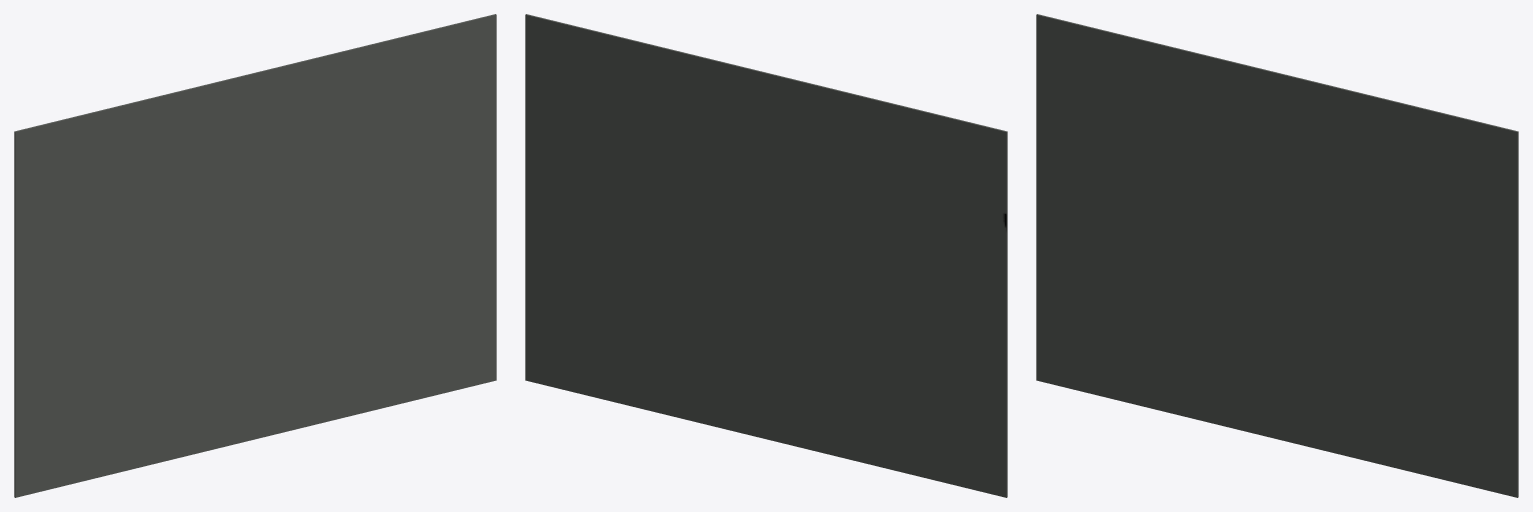
Rendered from delosReyes_bedroomDoor.glb.
3 renders of one model, left to right at view 1: azimuth 30°, elevation 25°; view 2: azimuth 150°, elevation 25°; view 3: azimuth 330°, elevation 25°, orthographic.
Visible parts, largest first — view 1: bedroomDoor; view 2: bedroomDoor; view 3: bedroomDoor.
Boxes of the visible parts, bbox=[...] form: bedroomDoor: bbox=[14, 14, 496, 497]; bedroomDoor: bbox=[525, 14, 1007, 497]; bedroomDoor: bbox=[1036, 14, 1518, 497].
Bounding box in the file's own units: 34.99 × 25.39 × 0.125.
Materials: 1 (1 with a texture image).
